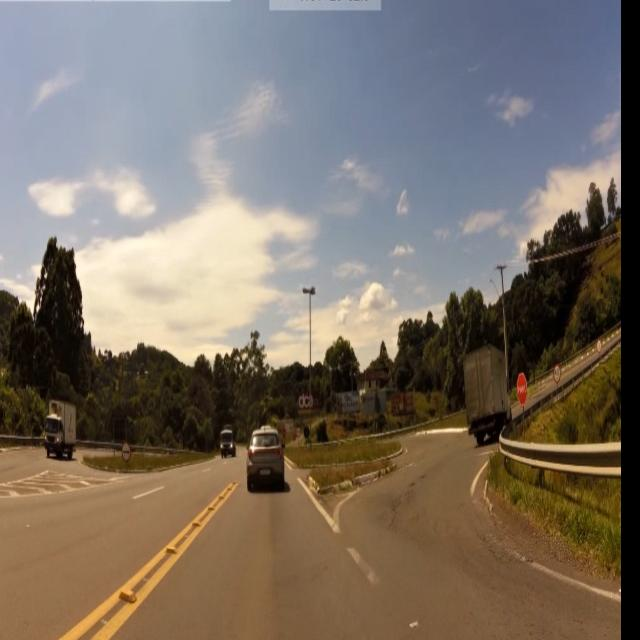R-1: (516, 372, 530, 408)
